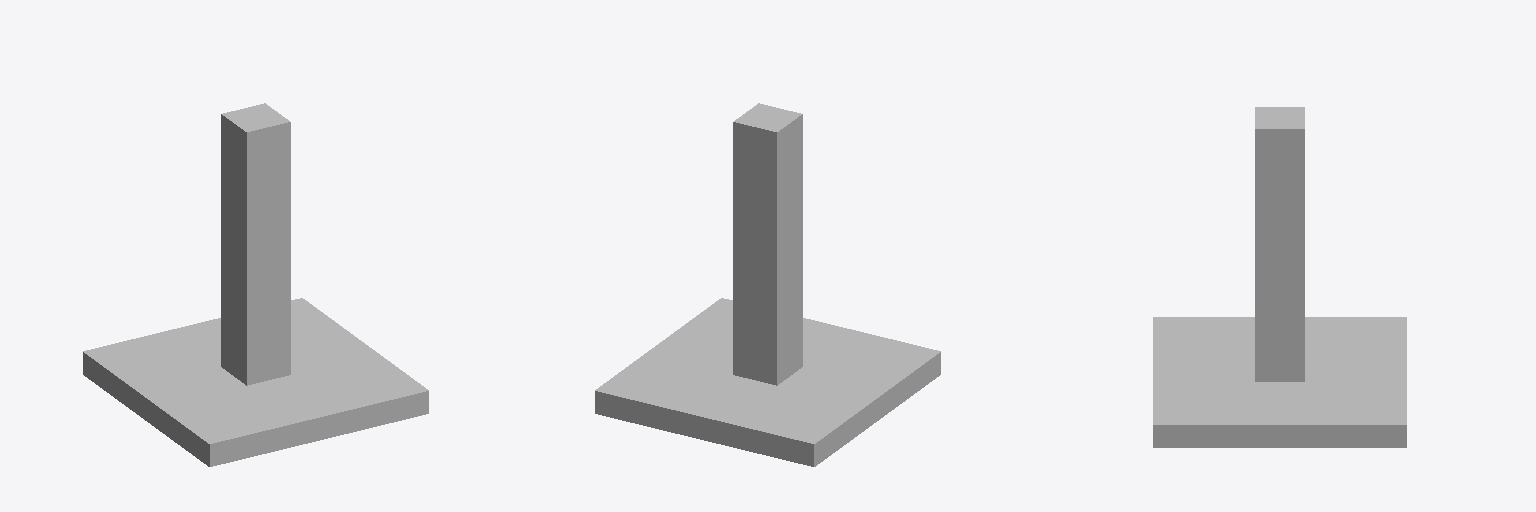
File: lamp.obj
3 renders of one model, left to right at view 1: azimuth 30°, elevation 25°; view 2: azimuth 150°, elevation 25°; view 3: azimuth 270°, elevation 25°, orthographic.
Visible parts, largest first — view 1: object 1; view 2: object 1; view 3: object 1.
Part boxes in pixels (x1,y1,x2,y2): object 1: (83,103,428,466); object 1: (595,103,940,466); object 1: (1153,107,1406,447).
Size of the model in its own units: 1 by 1.2 by 1.